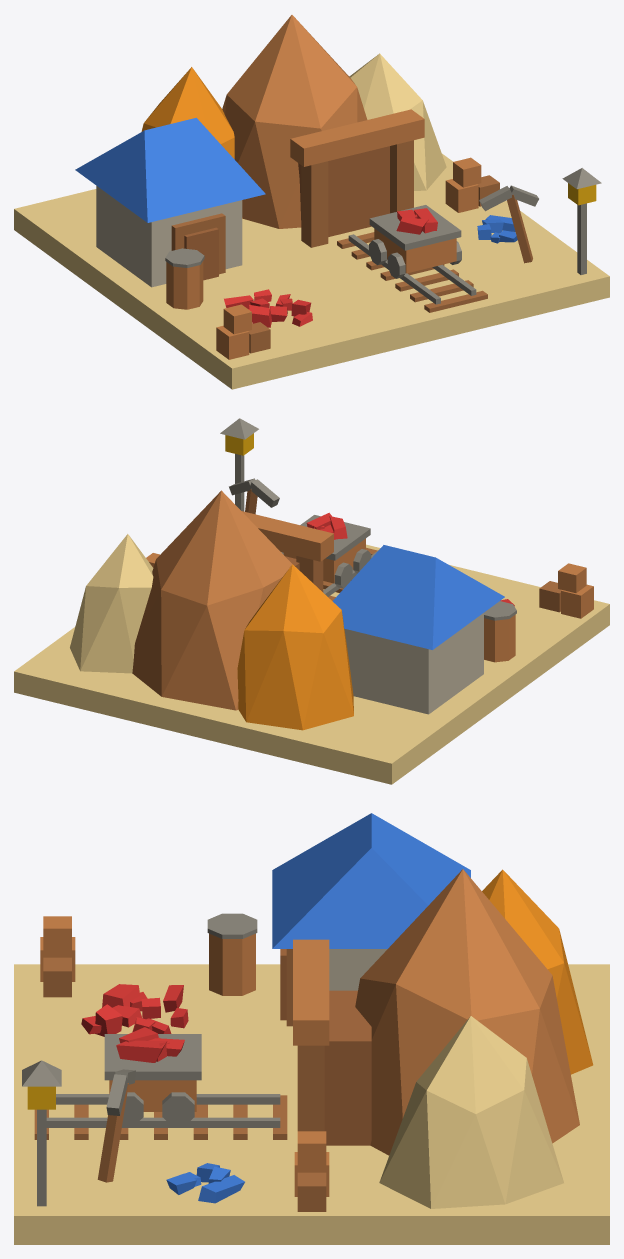
File: mine_t2_v2.glb
The picture shows the model from 3 angles, top to bottom: view 1: azimuth 30°, elevation 25°; view 2: azimuth 150°, elevation 25°; view 3: azimuth 270°, elevation 25°; orthographic projection. The views are drawn at different scales.
Visible parts, largest first — view 1: mine_t2_v2; view 2: mine_t2_v2; view 3: mine_t2_v2.
Part boxes in pixels (<box>): mine_t2_v2: <box>14,15,609,389</box>; mine_t2_v2: <box>14,418,609,784</box>; mine_t2_v2: <box>14,813,609,1244</box>.
Size of the model in its own units: 0.75 by 0.38 by 0.75.
Materials: 1 (1 with a texture image).
